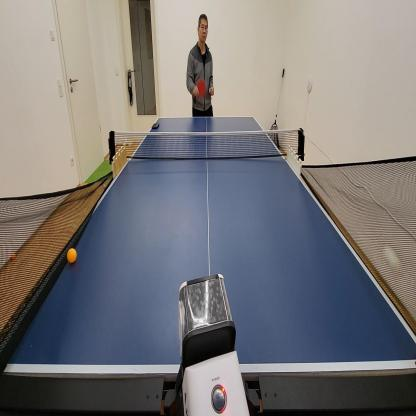Ball: (382, 242, 402, 277), (66, 247, 78, 266), (10, 252, 17, 260), (102, 183, 106, 188)
